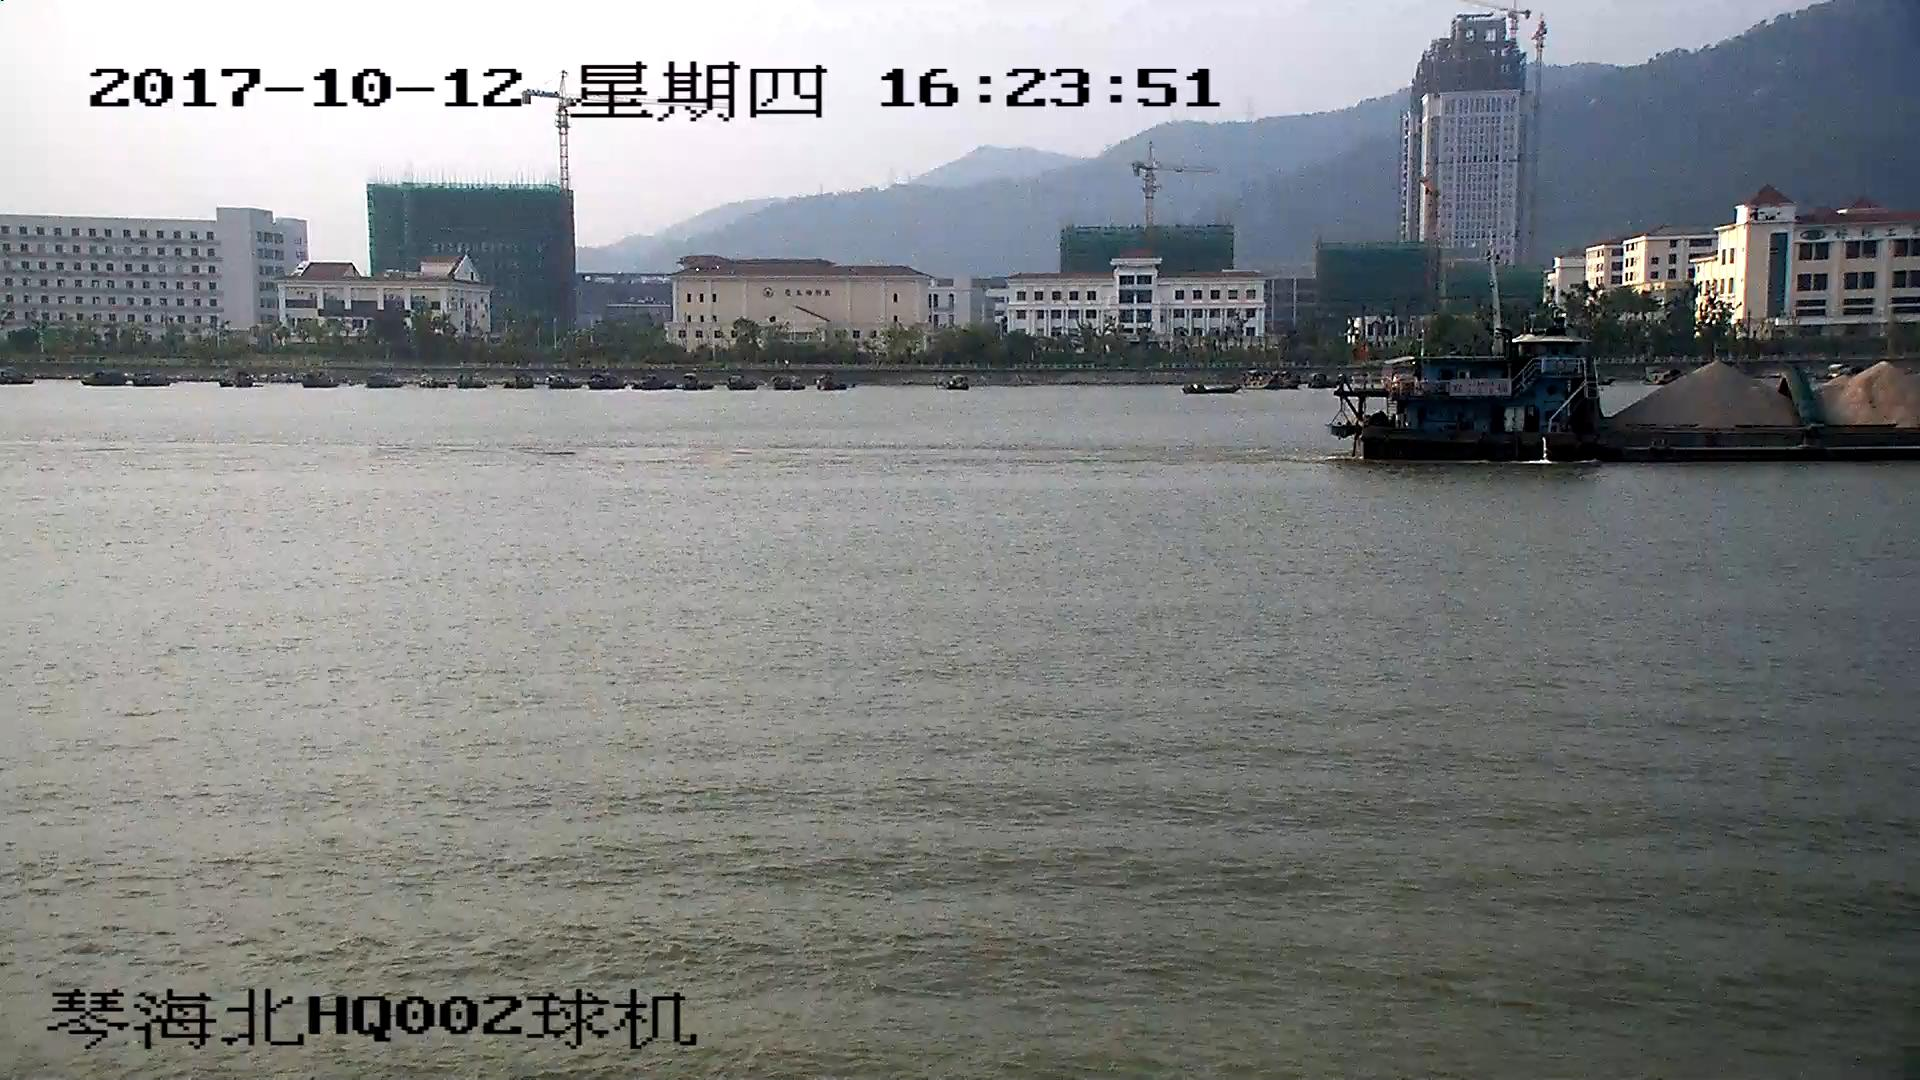ore carrier: (1339, 333, 1920, 465)
